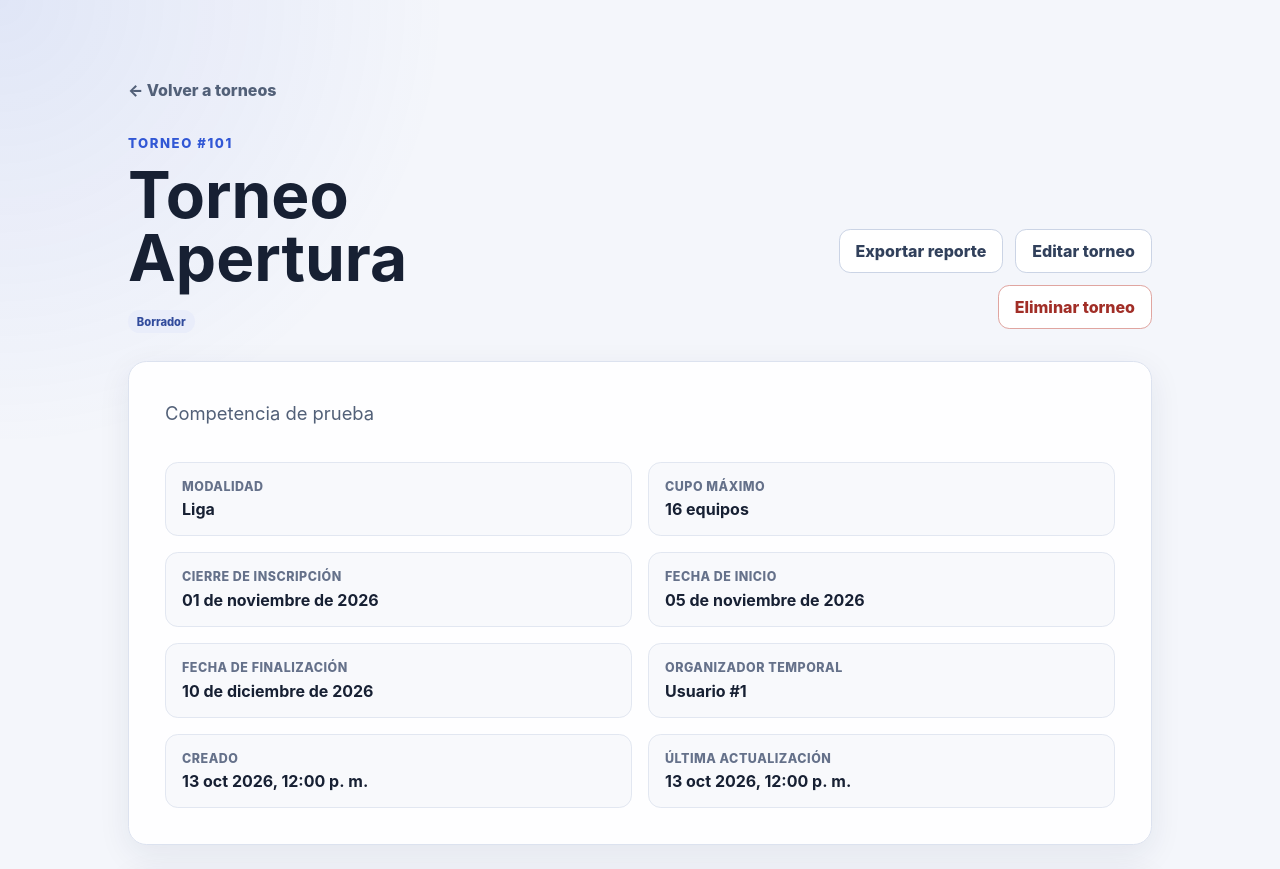
Test case: TournamentDetailPage › impide guardar fechas inconsistentes
Click the button "Editar torneo" at coordinates (1084, 251), box top-left (1015, 229), bottom-right (1152, 273)
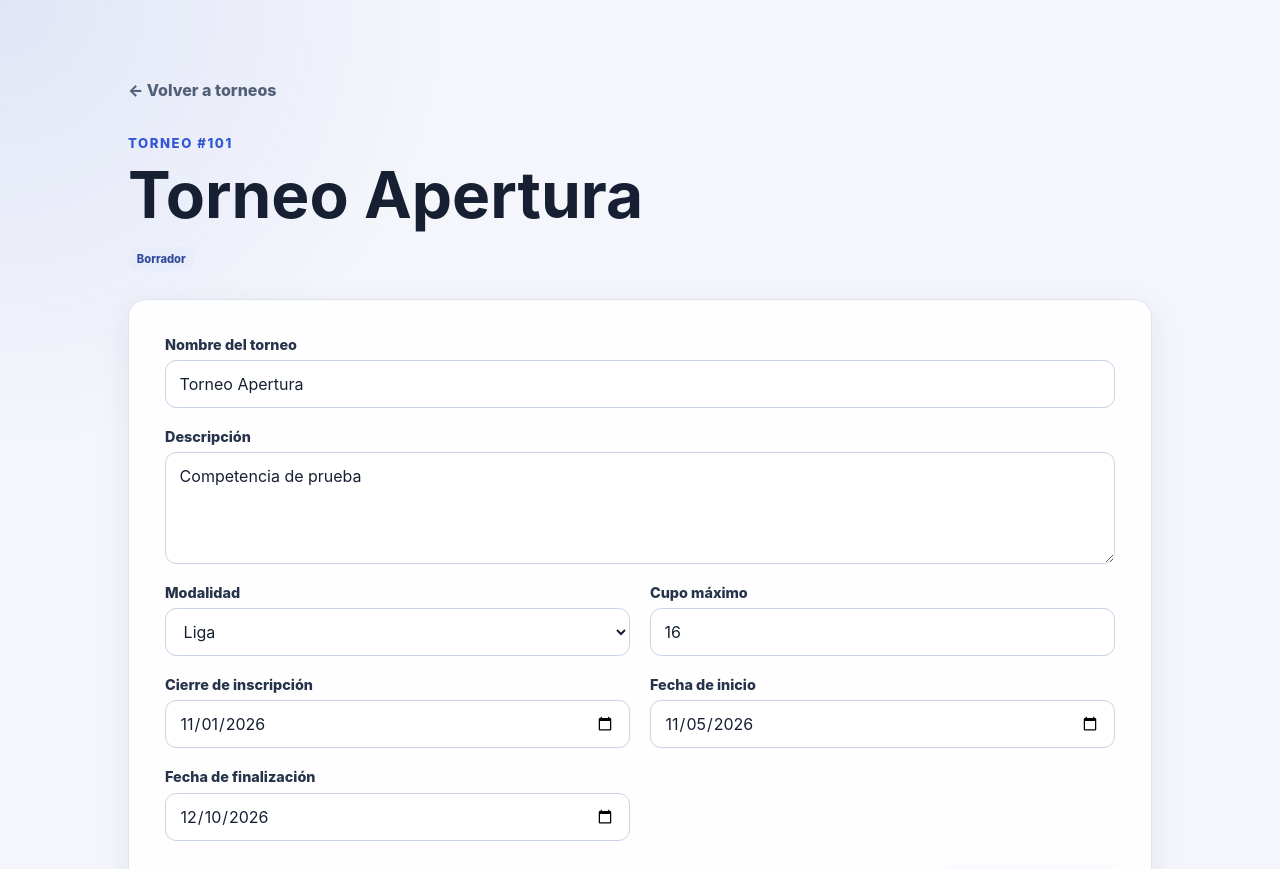
Type "2026-11-20" into the date field labelled "Cierre de inscripción" at coordinates (398, 724), box top-left (165, 700), bottom-right (630, 748)
(page scrolled)
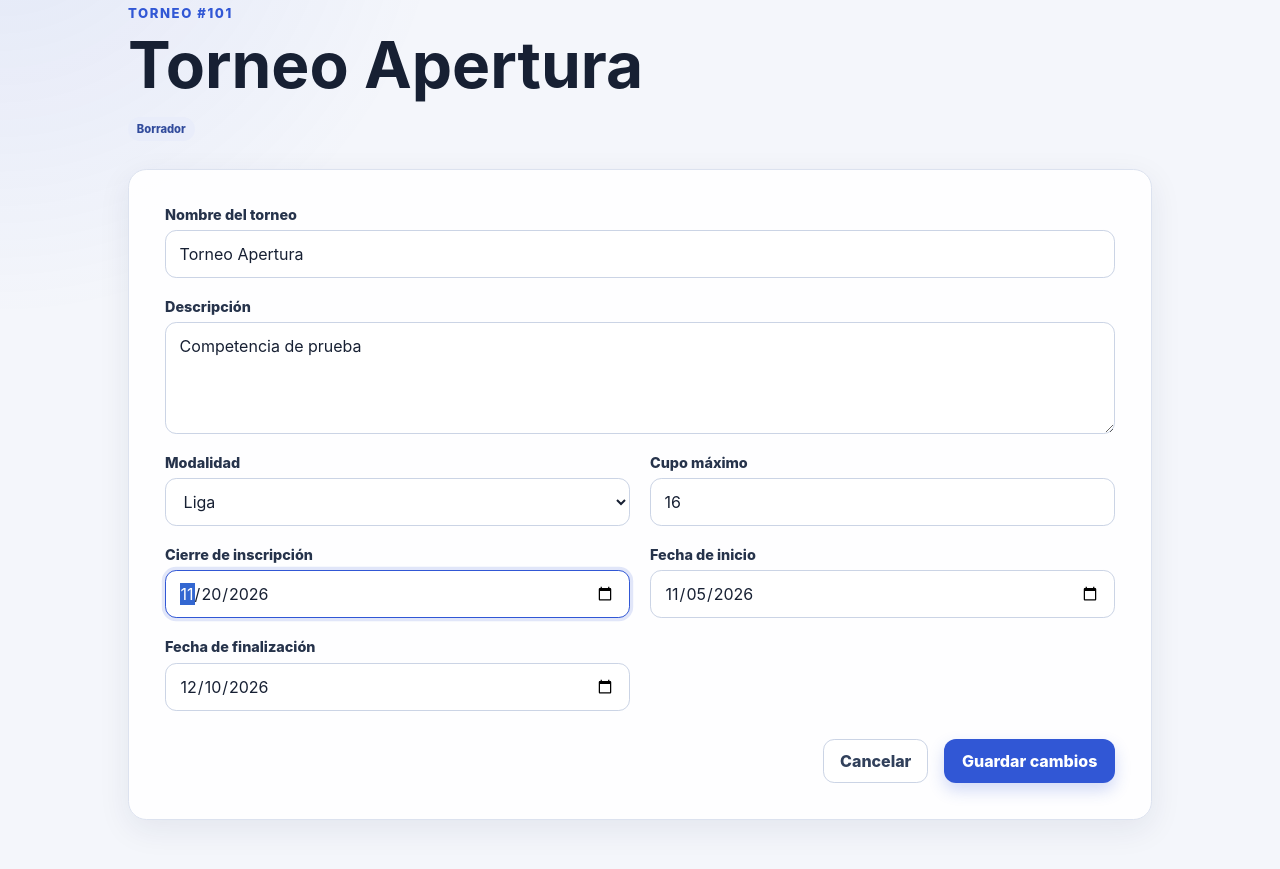
Click the button "Guardar cambios" at coordinates (1030, 761), box top-left (944, 739), bottom-right (1115, 783)
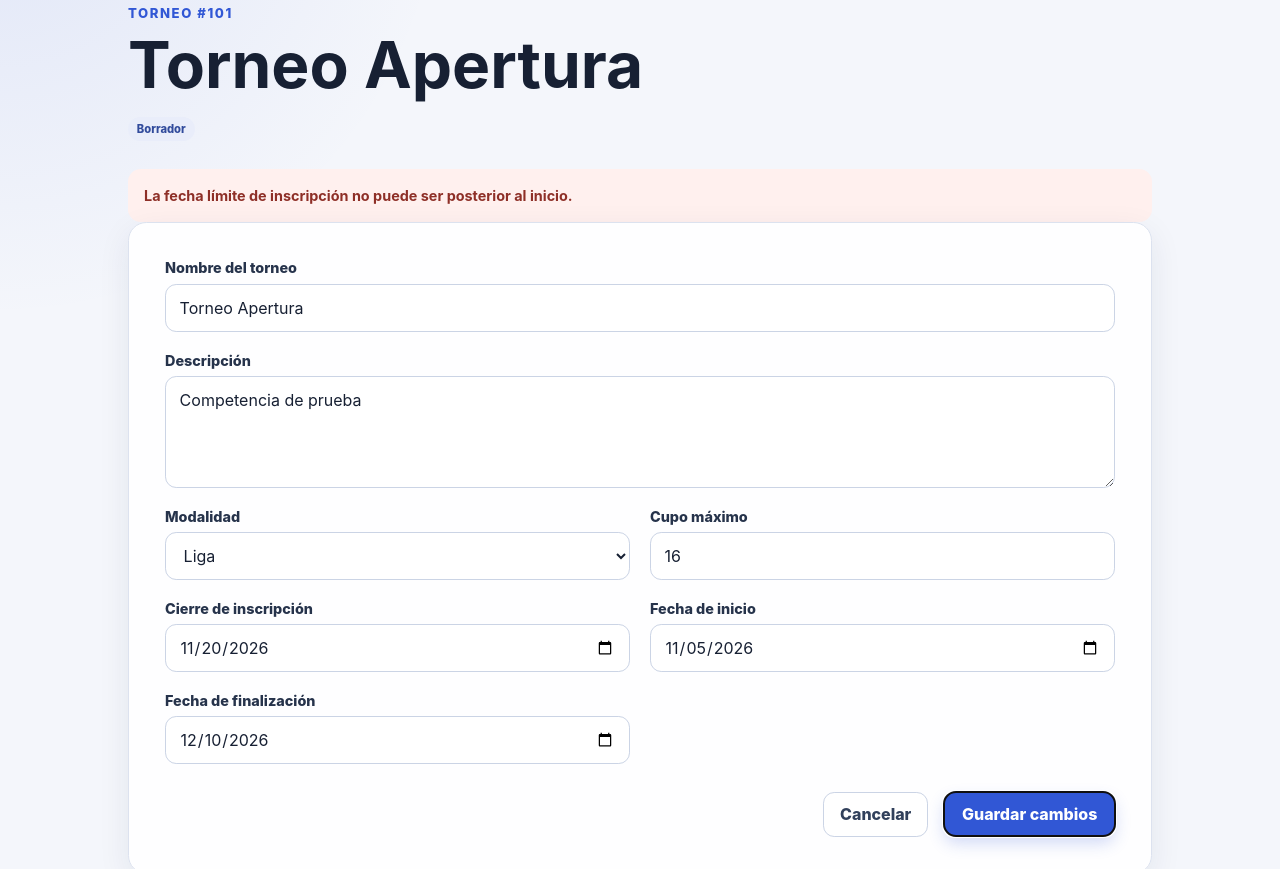
Check: the message reads "La fecha límite de inscripción no puede ser posterior al inicio.", box top-left (144, 187), bottom-right (573, 204)
